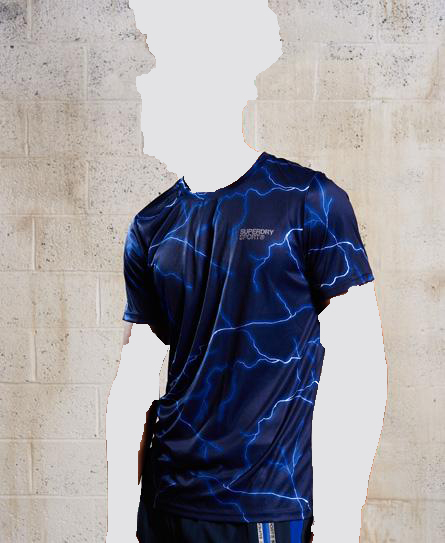teeshirt: (115, 153, 380, 519)
